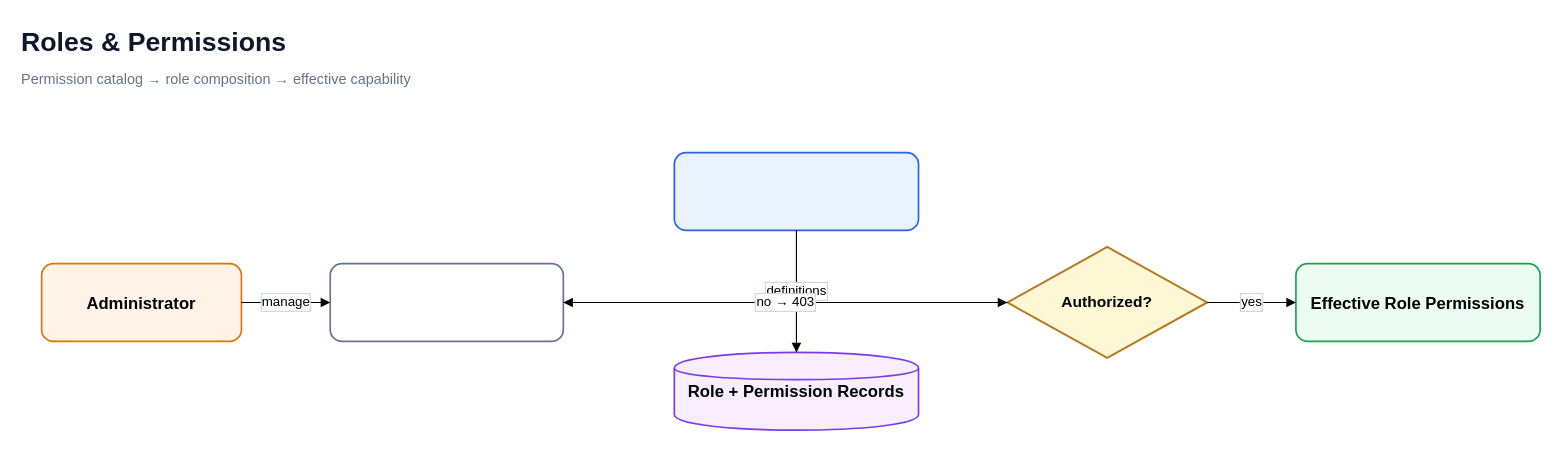
Image size: 1560x450. Some labels were removed from this diagram. Here are the shapes that lost their labels. From the top down, the centre of each, then its label:
At [796,191]: "Managed Permission Catalog".
At [446,302]: "Role Resource / Form".
